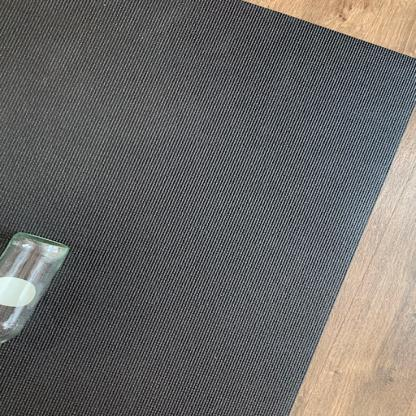trash: (0, 230, 70, 350)
